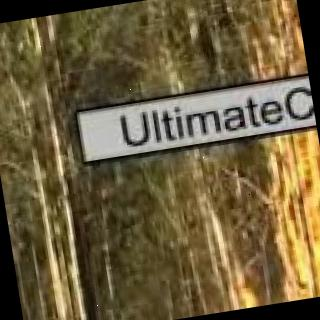fire: (218, 244, 320, 311), (249, 142, 320, 228), (255, 0, 306, 66)
